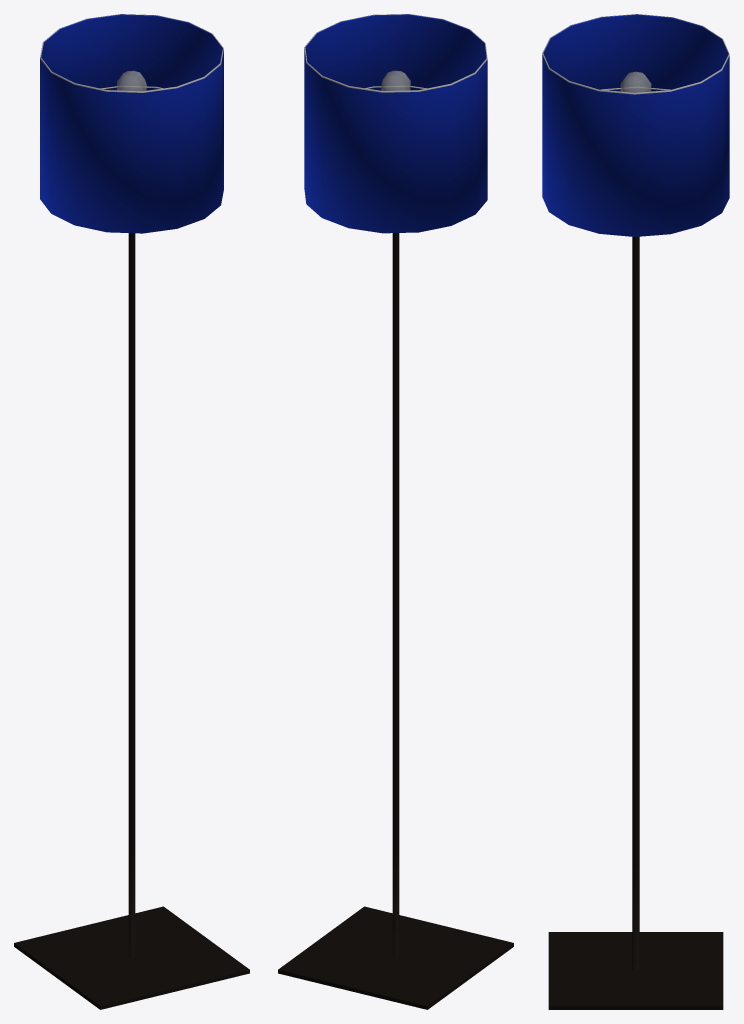
The model's file is FloorLamp.obj.
3 renders of one model, left to right at view 1: azimuth 30°, elevation 25°; view 2: azimuth 150°, elevation 25°; view 3: azimuth 270°, elevation 25°, orthographic.
Parts seen in each view (by area): view 1: FloorLamp_Mesh; view 2: FloorLamp_Mesh; view 3: FloorLamp_Mesh.
Boxes of the visible parts, x1=… form: FloorLamp_Mesh: x1=14, y1=14, x2=249, y2=1009; FloorLamp_Mesh: x1=278, y1=14, x2=513, y2=1009; FloorLamp_Mesh: x1=542, y1=14, x2=729, y2=1009.
Bounding box in the file's own units: 2.14 × 11.6 × 2.14.
